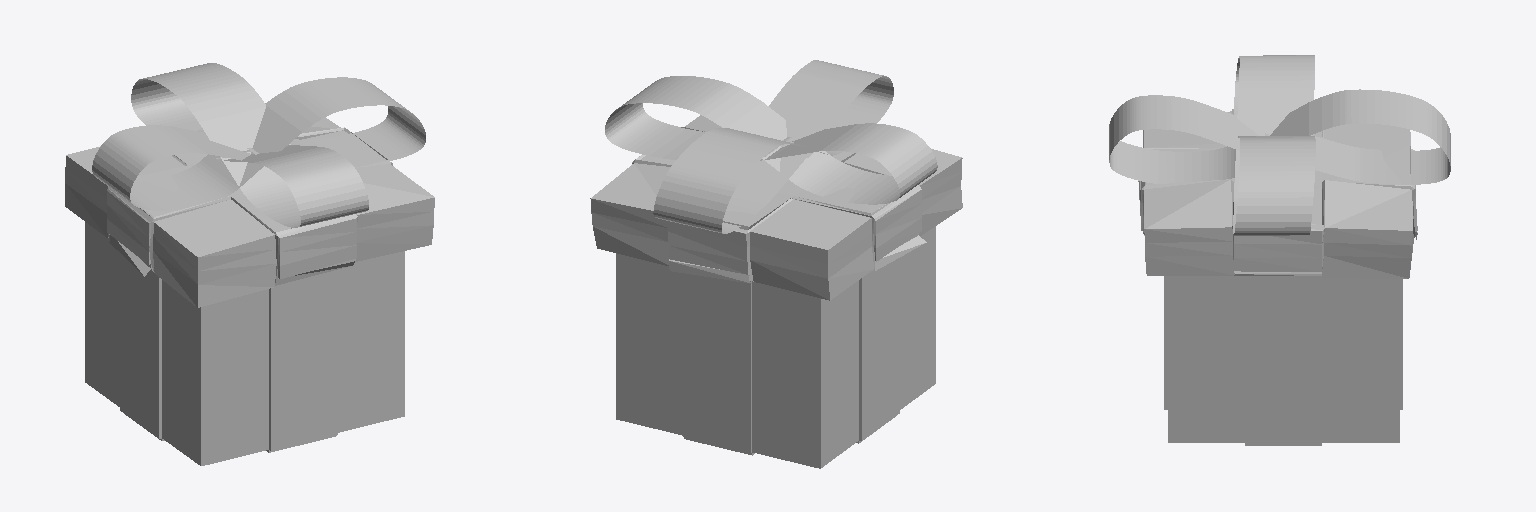
The model's file is gift.obj.
3 renders of one model, left to right at view 1: azimuth 30°, elevation 25°; view 2: azimuth 150°, elevation 25°; view 3: azimuth 270°, elevation 25°, orthographic.
Parts seen in each view (by area): view 1: Cube.001, Cube_1, Cube_1_Extrude_NURBS, Cube_1_Extrude_NURBS_1; view 2: Cube.001, Cube_1, Cube_1_Extrude_NURBS, Cube_1_Extrude_NURBS_1; view 3: Cube.001, Cube_1, Cube_1_Extrude_NURBS_1, Cube_1_Extrude_NURBS.
Boxes of the visible parts, <box> form: Cube.001: <box>85,222,404,465</box>; Cube_1: <box>65,117,434,307</box>; Cube_1_Extrude_NURBS: <box>92,77,425,210</box>; Cube_1_Extrude_NURBS_1: <box>131,63,368,227</box>; Cube.001: <box>616,226,935,468</box>; Cube_1: <box>590,115,962,300</box>; Cube_1_Extrude_NURBS: <box>605,76,937,204</box>; Cube_1_Extrude_NURBS_1: <box>653,60,893,233</box>; Cube.001: <box>1164,276,1402,445</box>; Cube_1: <box>1138,109,1417,278</box>; Cube_1_Extrude_NURBS_1: <box>1109,89,1450,184</box>; Cube_1_Extrude_NURBS: <box>1233,55,1315,235</box>.
Size of the model in its own units: 456 by 428 by 456.